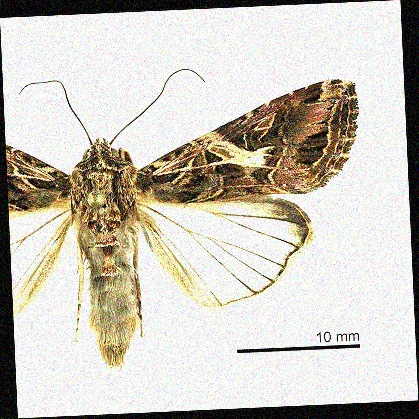Spodoptera litura: (10, 68, 366, 375)
